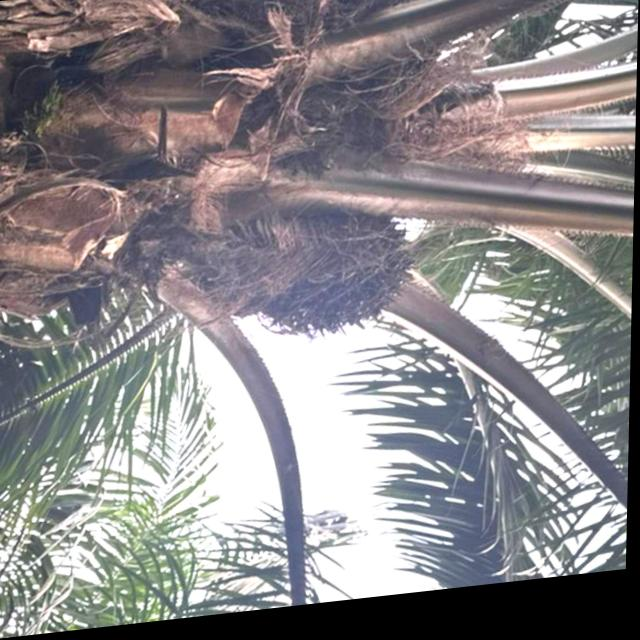unripe: (253, 212, 420, 353)
